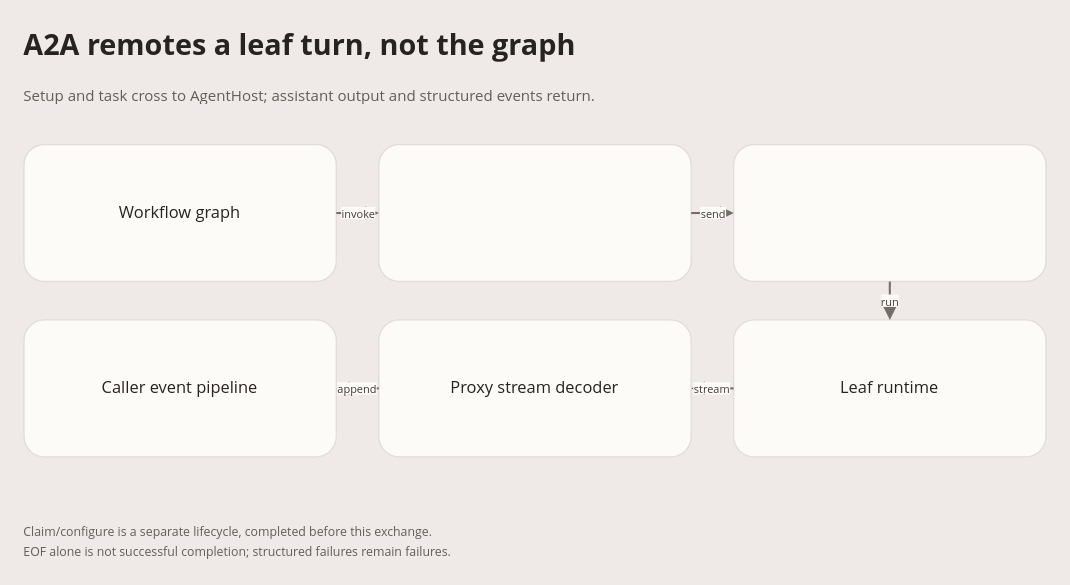
The diagram is 1070 pixels wide and 585 high, and some of its shapes have lost their labels. The centre of each missing label's shape, as x and y in pixels:
AgentHost bridge: (x=889, y=212)
RemoteAgentProxy: (x=534, y=212)
